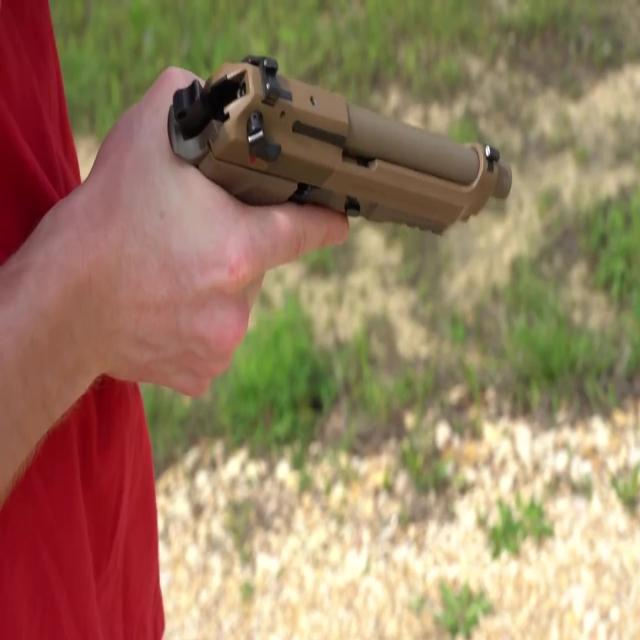Weapon: (133, 22, 580, 387)
